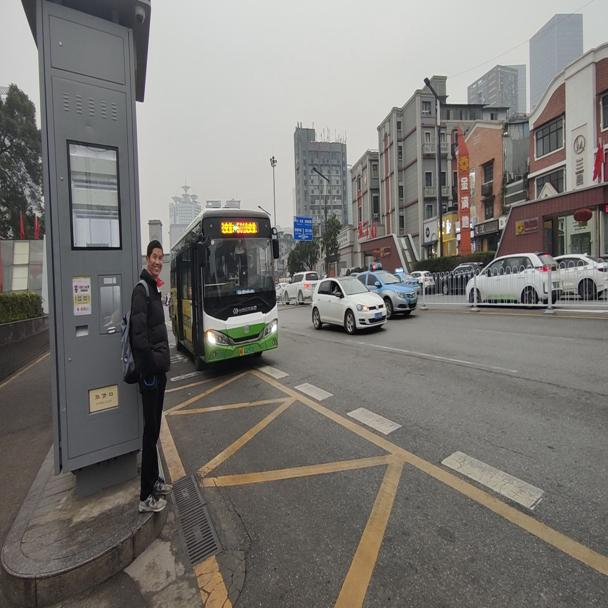bus: (167, 206, 280, 370)
screen: (236, 222, 244, 234)
